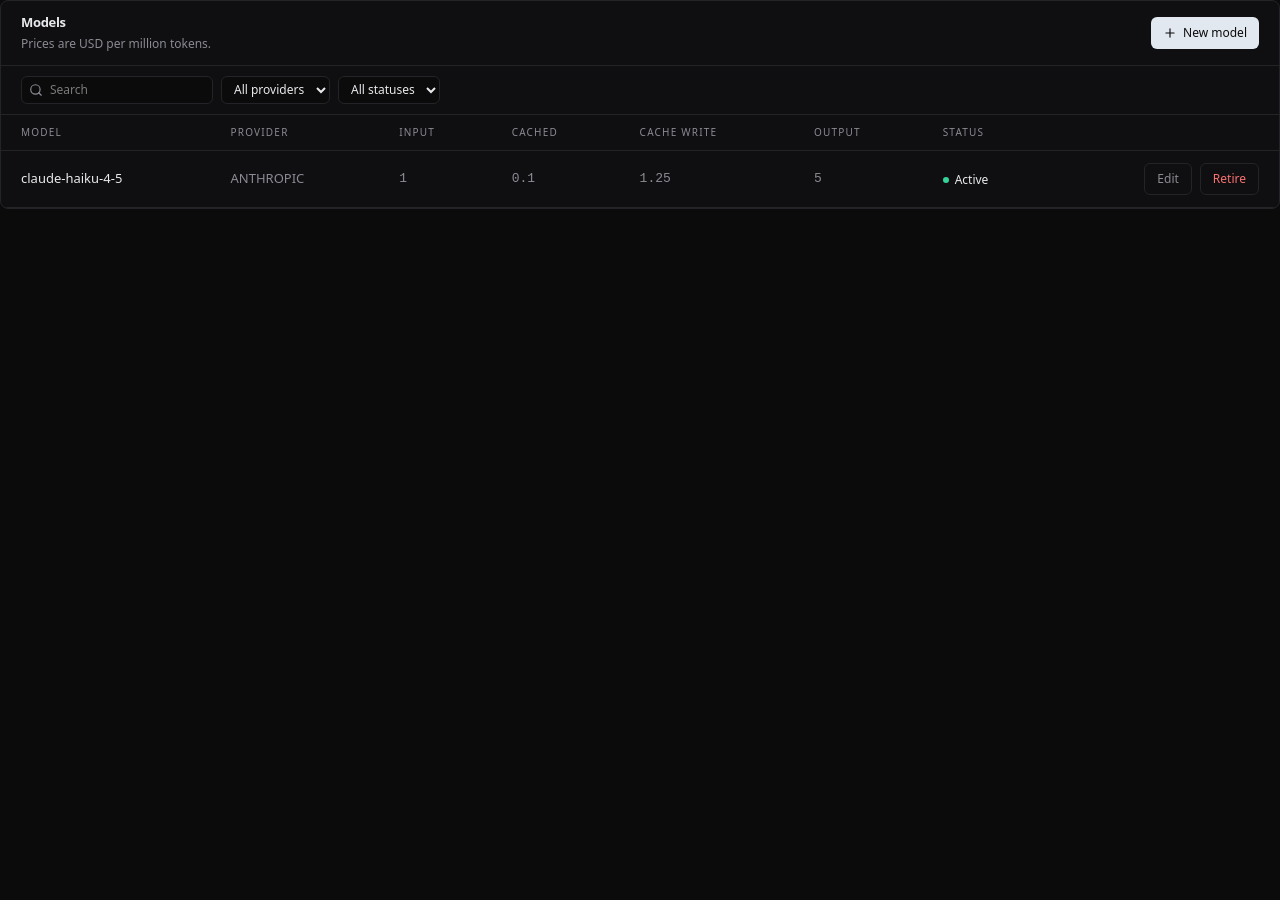
<ModelsPanel /> › opens the edit form with the current prices
The width and height of the screenshot is (1280, 900).
Click the button "Edit".
click(1168, 178)  # box [1144, 162, 1192, 194]
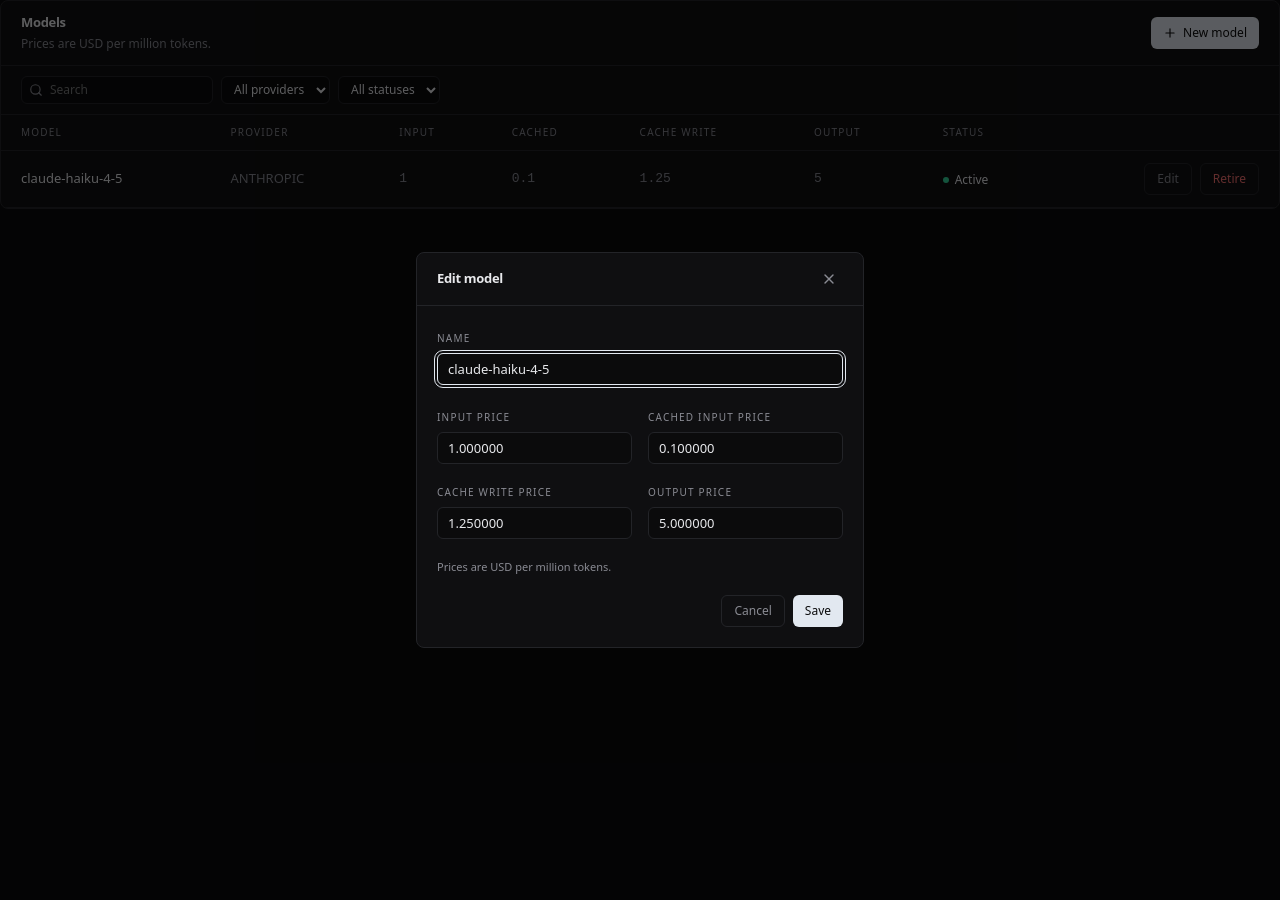
Expected: the field labelled "Name" holds "claude-haiku-4-5", [437, 353, 843, 385]
Expected: the number field labelled "Output price" holds "5", [648, 507, 843, 539]
